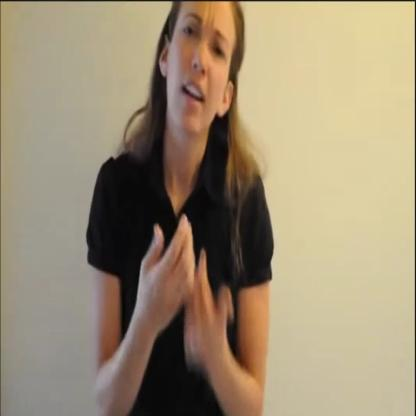HowAreYou: (121, 202, 238, 378)
